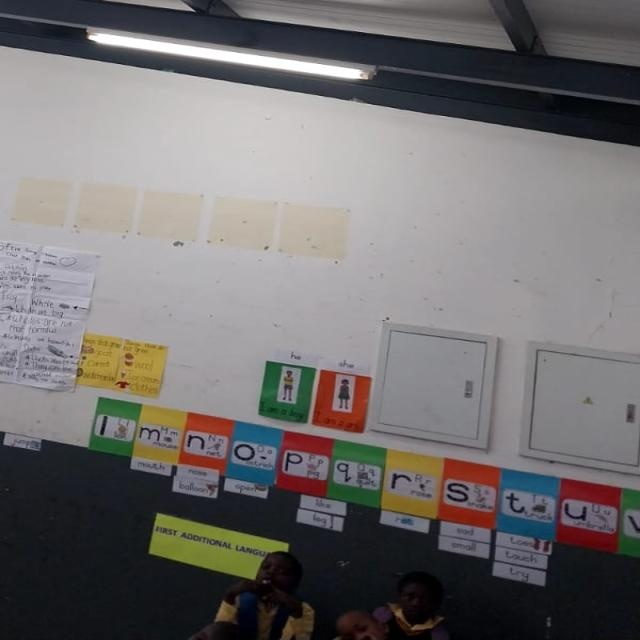fluorescent tube: (61, 20, 387, 108)
